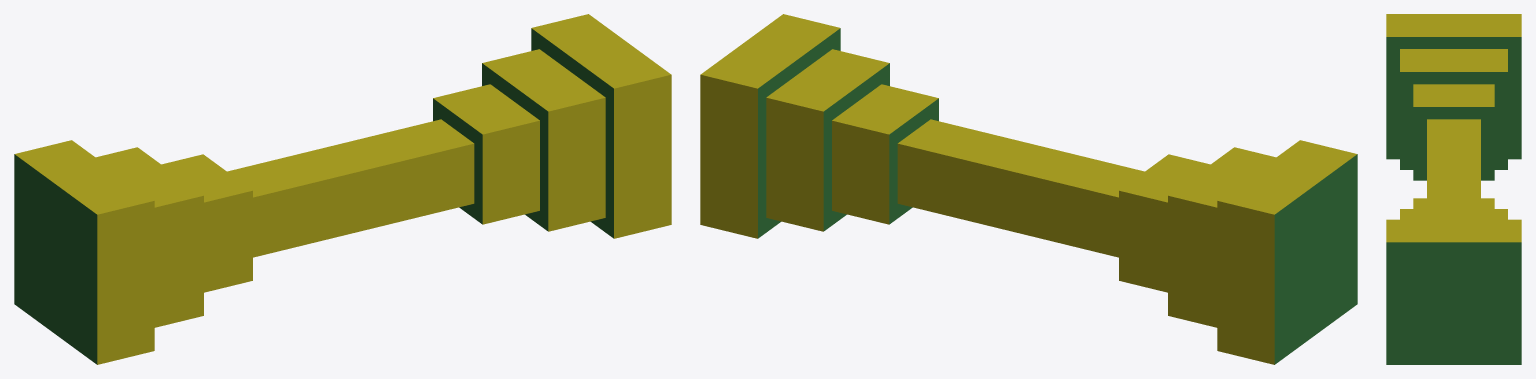
Rendered from block_2.fbx.
The picture shows the model from 3 angles, left to right: view 1: azimuth 30°, elevation 25°; view 2: azimuth 150°, elevation 25°; view 3: azimuth 270°, elevation 25°; orthographic projection. The views are drawn at different scales.
Visible parts, largest first — view 1: 3DGeom~38, 3DGeom~37; view 2: 3DGeom~38, 3DGeom~37; view 3: 3DGeom~37, 3DGeom~38.
Part boxes in pixels (x1,y1,x2,y2): 3DGeom~38: [15, 14, 671, 364]; 3DGeom~37: [14, 28, 613, 364]; 3DGeom~38: [700, 14, 1356, 364]; 3DGeom~37: [758, 28, 1357, 364]; 3DGeom~37: [1386, 37, 1521, 364]; 3DGeom~38: [1386, 14, 1521, 242].
Bounding box in the file's own units: 0.2 × 0.05 × 0.05.
